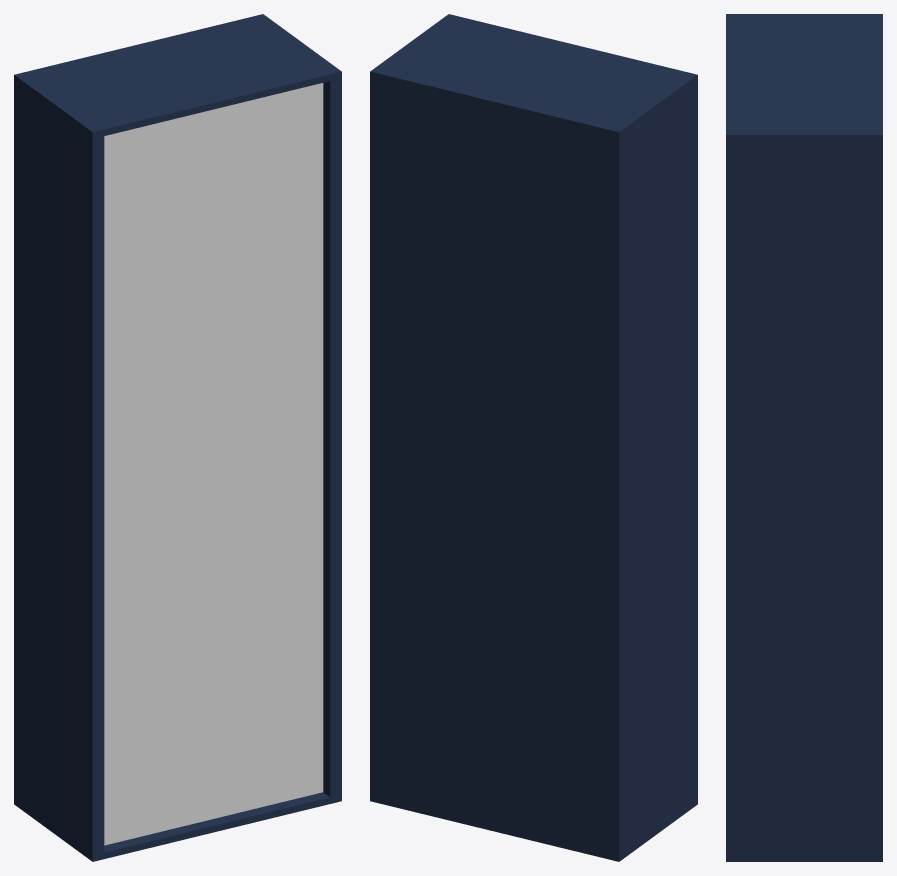
Rendered from Skeleton.fbx.
3 views of the same model, side by side, from view 1: azimuth 30°, elevation 25°; view 2: azimuth 150°, elevation 25°; view 3: azimuth 270°, elevation 25° (orthographic).
Visible parts, largest first — view 1: Cube; view 2: Cube; view 3: Cube.
Part boxes in pixels (left/top/right/bottom): Cube: left=14, top=14, right=341, bottom=861; Cube: left=370, top=14, right=697, bottom=861; Cube: left=726, top=14, right=882, bottom=861.
Size of the model in its own units: 3.66 by 10.24 by 2.
